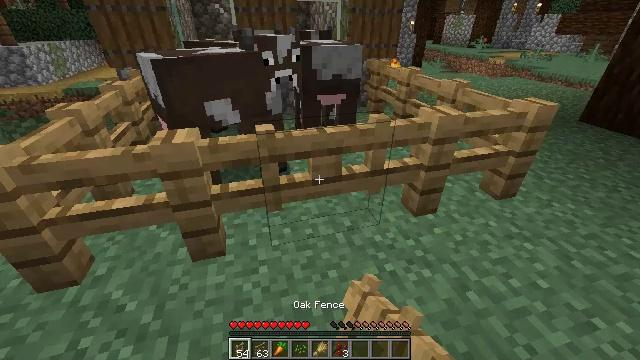cow: (137, 35, 293, 174), (291, 31, 364, 135)
